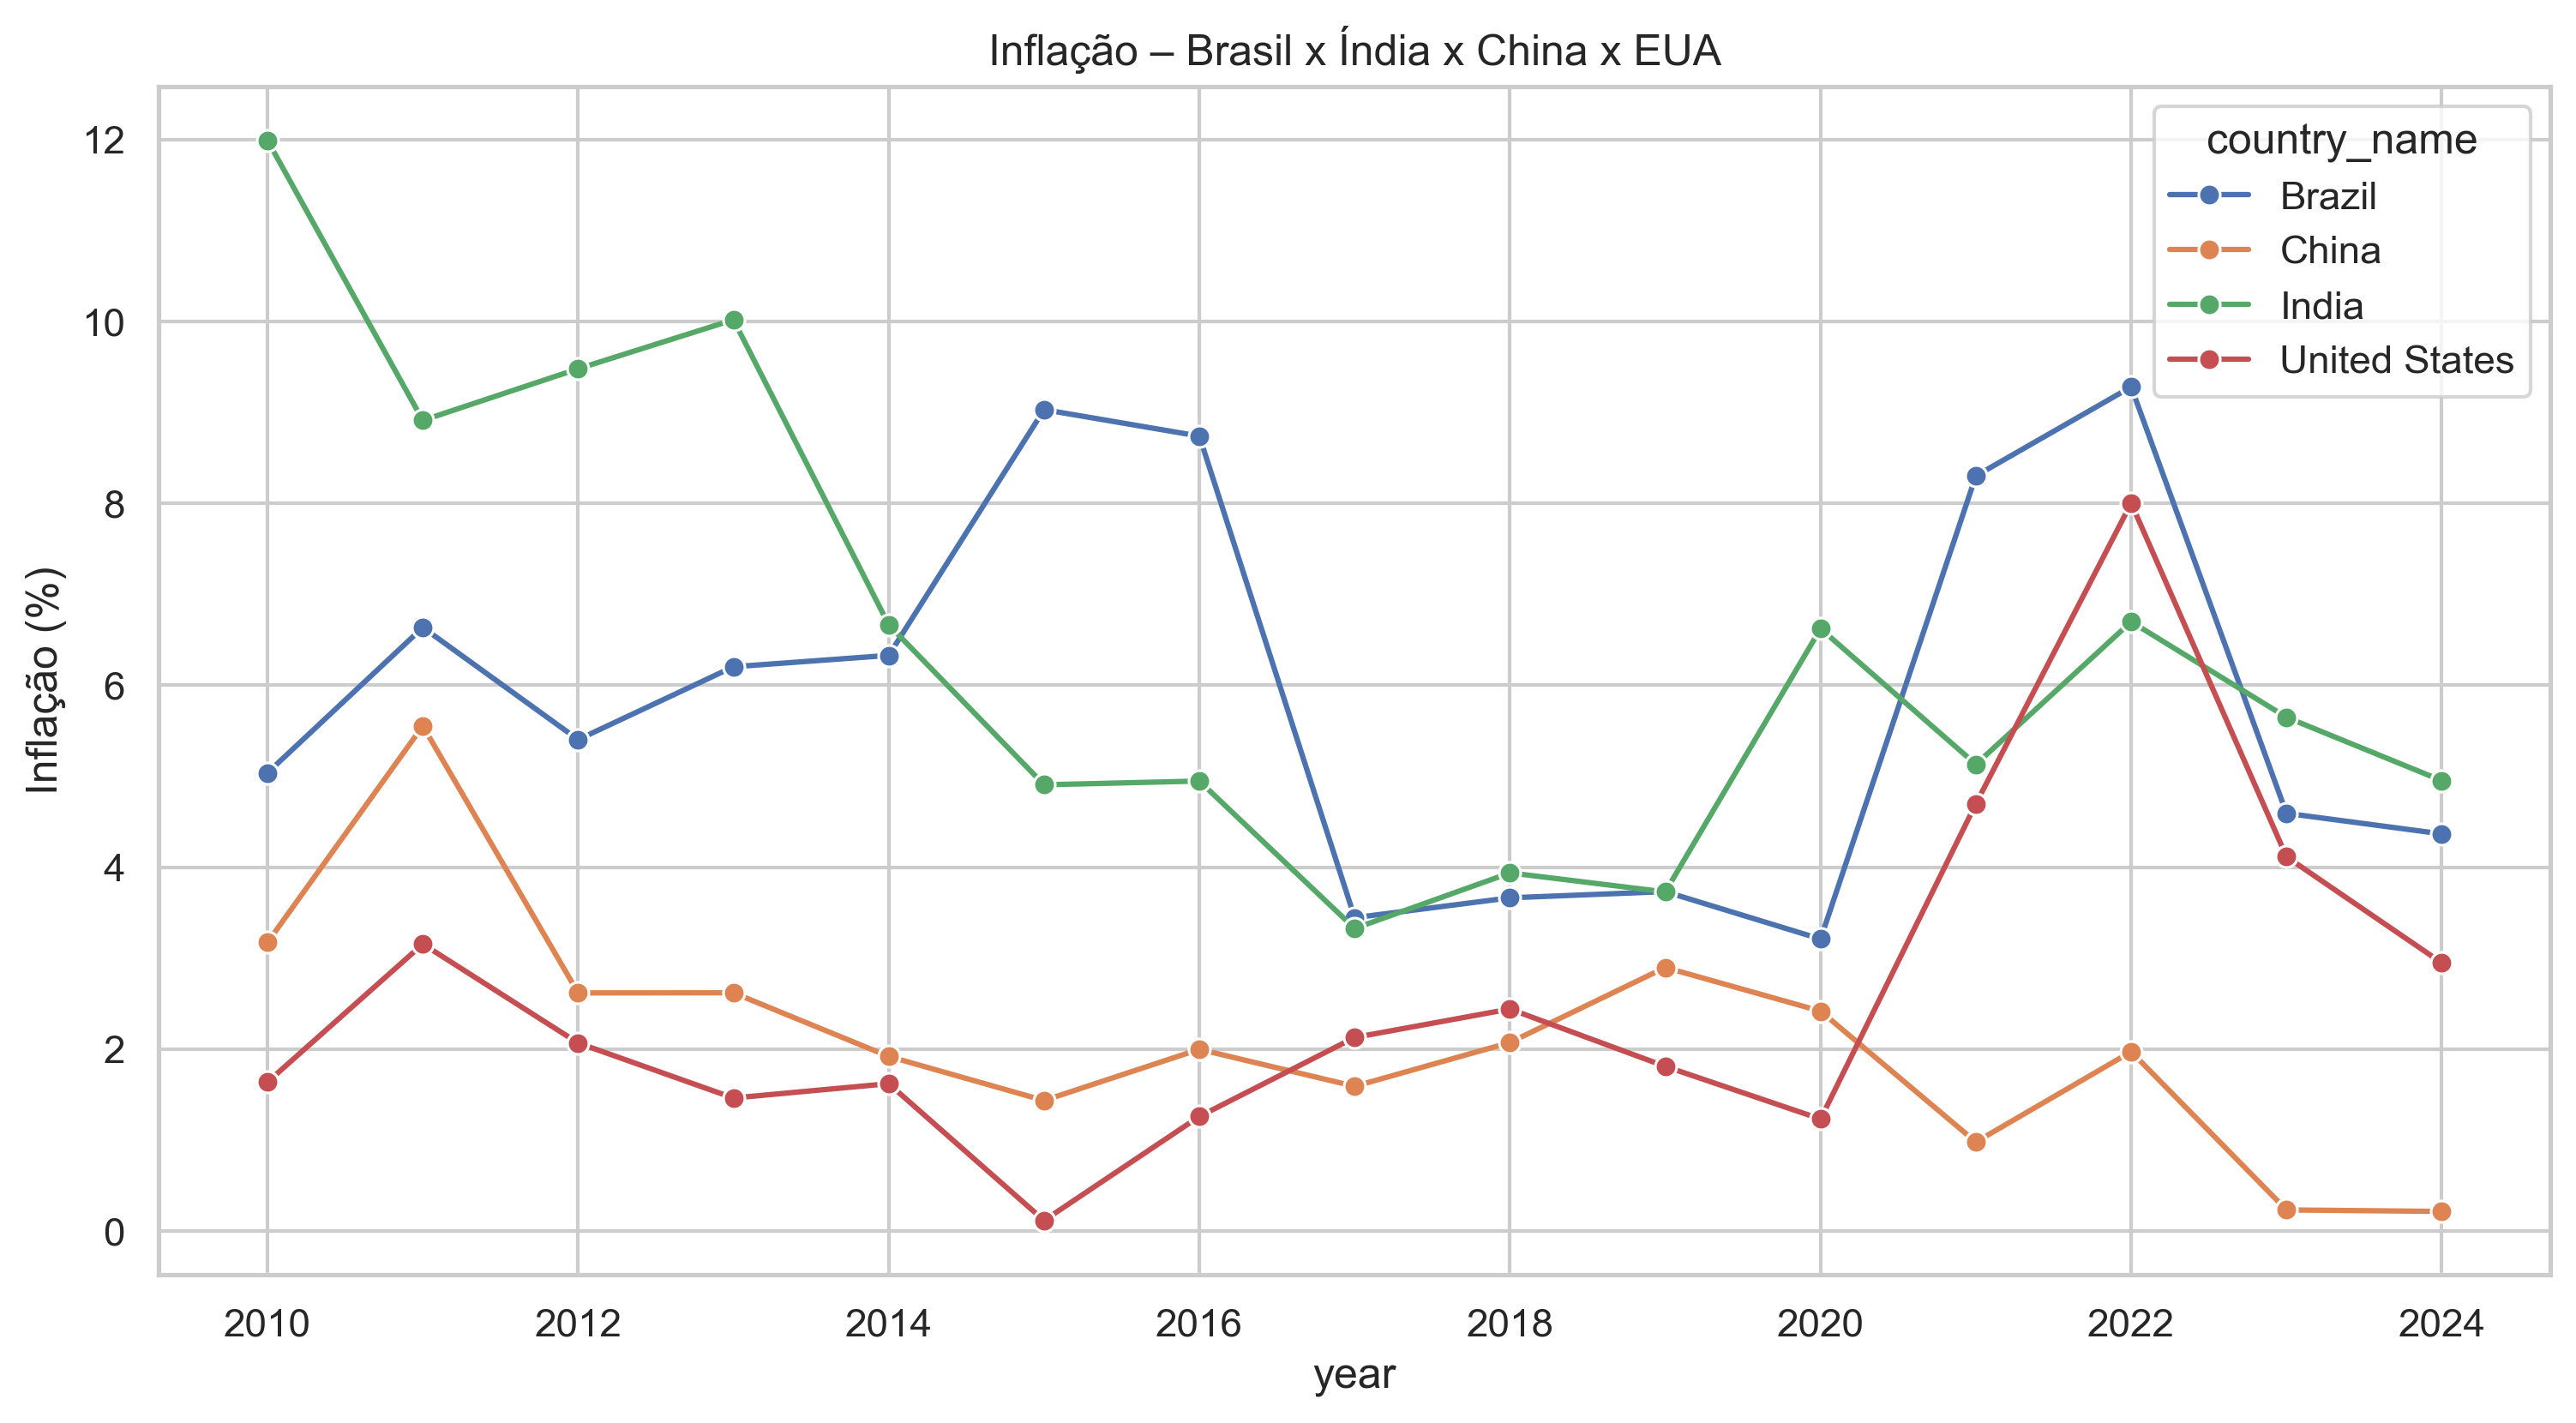

What the dashboard file says about the page in this screenshot:
{"tool":"powerbi","page":{"name":"Inflação - Brasil x Índia x China x EUA","canvas":[1280,720],"ordinal":1},"visuals":[{"type":"lineChart","title":"Inflação Brasil x China x Estados Unidos x India ","fields":{"Category":["indicadores.year"],"Series":["indicadores.country_name"],"Y":["Sum(indicadores.Inflação ajustada)"]},"box":[126.2,56.3,1062.1,605.1],"z":0}]}

Visuals, with their boxes in screenshot pixels (x1, y1, x2, y2), scaled from the page's 1280x720 canvas onto the 2576x1423 screenshot:
"Inflação Brasil x China x Estados Unidos x India " lineChart: detection(254, 111, 2392, 1307)
